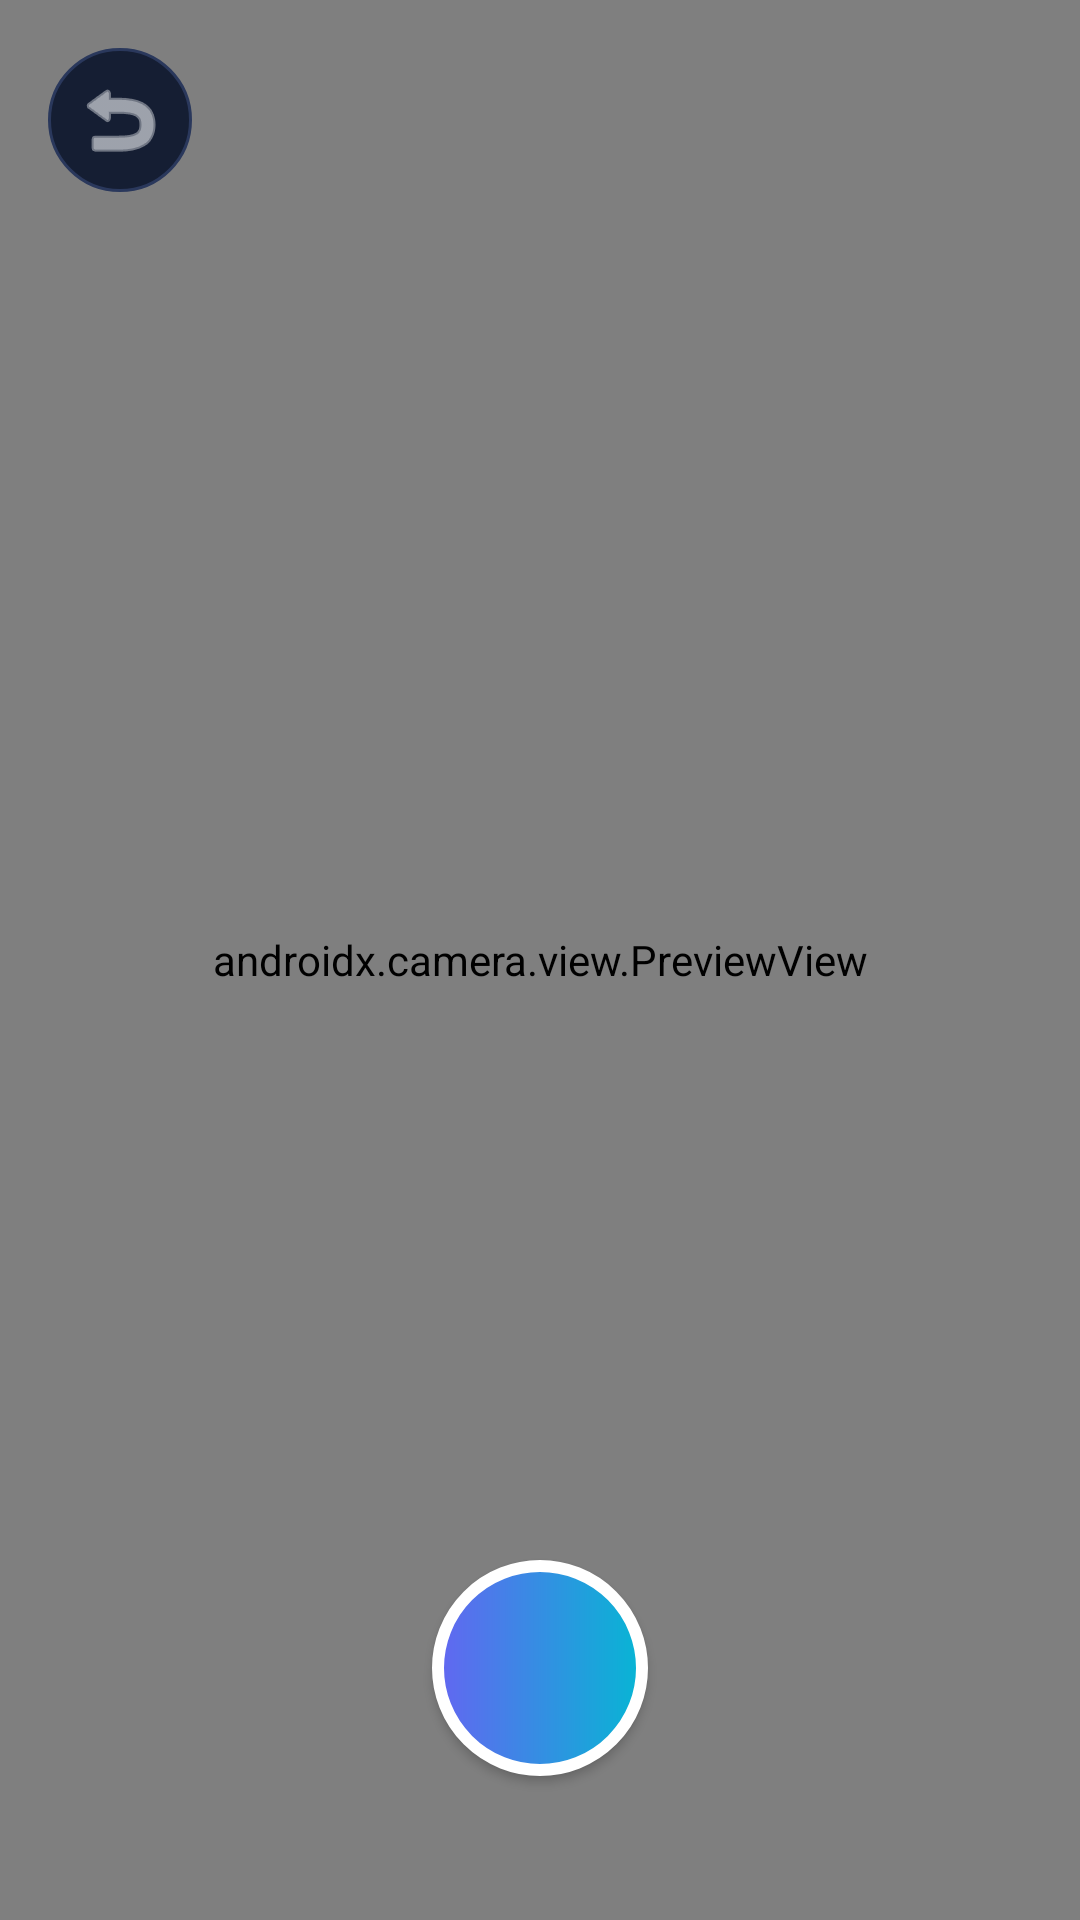

Screen size 1080w x 1920h. Icon name, then its center in pixels as (x=x, y=y):
Close Camera: (x=120, y=120)
